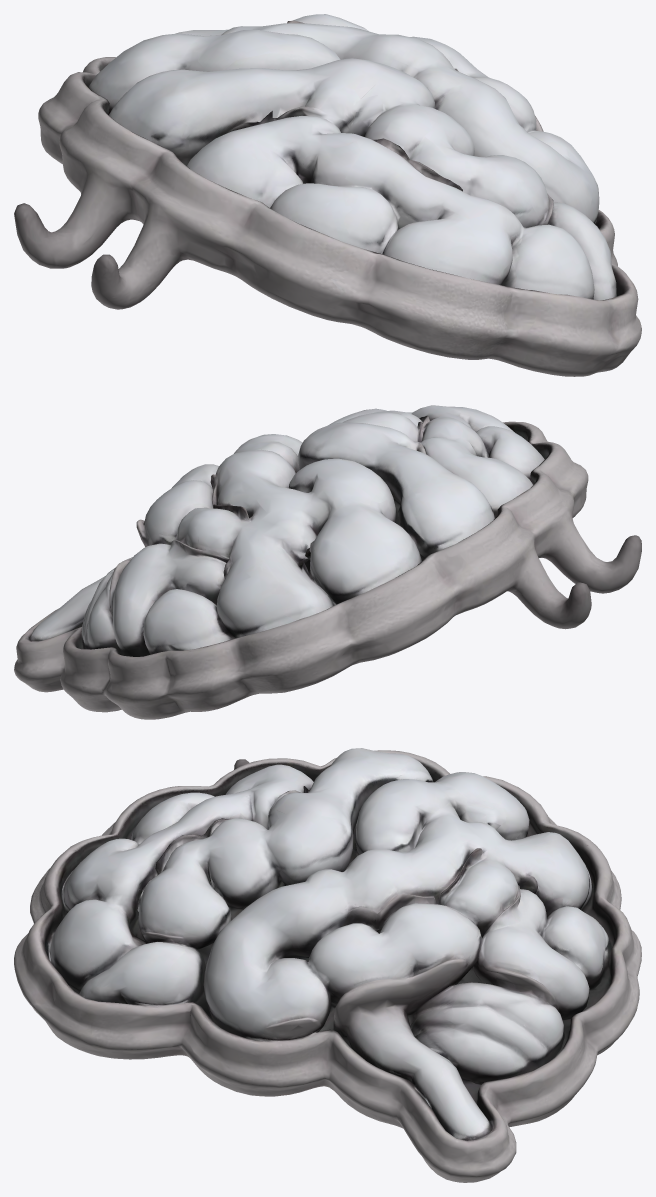
Rendered from brain.glb.
3 views of the same model, one above another, from view 1: azimuth 30°, elevation 25°; view 2: azimuth 150°, elevation 25°; view 3: azimuth 270°, elevation 25° (orthographic). The views are drawn at different scales.
Visible parts, largest first — view 1: tripo_node_333fe549-0ae7-4434-b8f9-50daefb2840d; view 2: tripo_node_333fe549-0ae7-4434-b8f9-50daefb2840d; view 3: tripo_node_333fe549-0ae7-4434-b8f9-50daefb2840d.
Part boxes in pixels (box(x1,y1,x2,y2)): tripo_node_333fe549-0ae7-4434-b8f9-50daefb2840d: box(14, 14, 641, 376); tripo_node_333fe549-0ae7-4434-b8f9-50daefb2840d: box(14, 405, 641, 719); tripo_node_333fe549-0ae7-4434-b8f9-50daefb2840d: box(14, 748, 641, 1182).
Size of the model in its own units: 0.9621 by 0.4599 by 0.998.
Materials: 1 (1 with a texture image).
